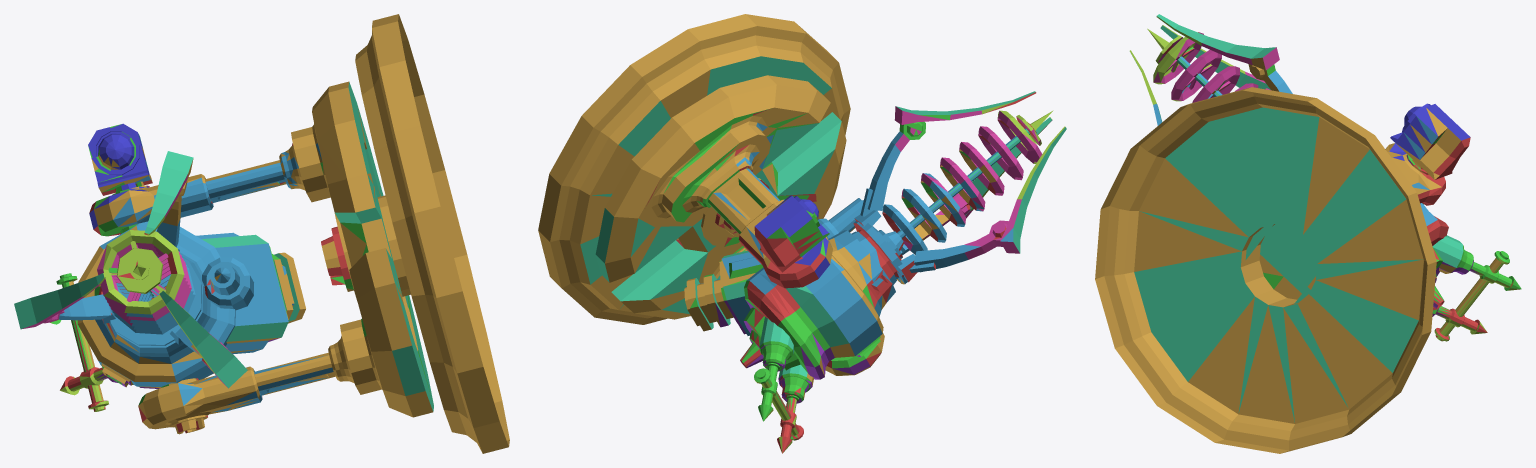
Rendered from seg_pump_densematcher.glb.
3 renders of one model, left to right at view 1: azimuth 30°, elevation 25°; view 2: azimuth 150°, elevation 25°; view 3: azimuth 270°, elevation 25°, orthographic. The views are drawn at different scales.
Visible parts, largest first — view 1: world; view 2: world; view 3: world.
Part boxes in pixels (x1,y1,x2,y2): world: (14, 14, 509, 453); world: (538, 14, 1066, 453); world: (1095, 14, 1521, 453).
Bounding box in the file's own units: 1.68 × 1.24 × 1.47.
